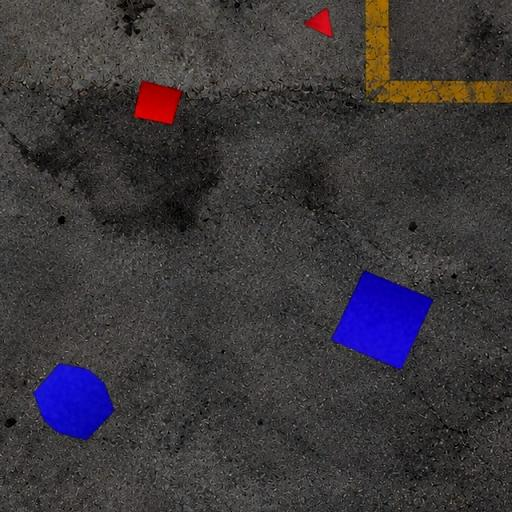BLUE_SQUARE: (330, 270, 434, 370)
RED_SQUARE: (133, 80, 182, 126)
